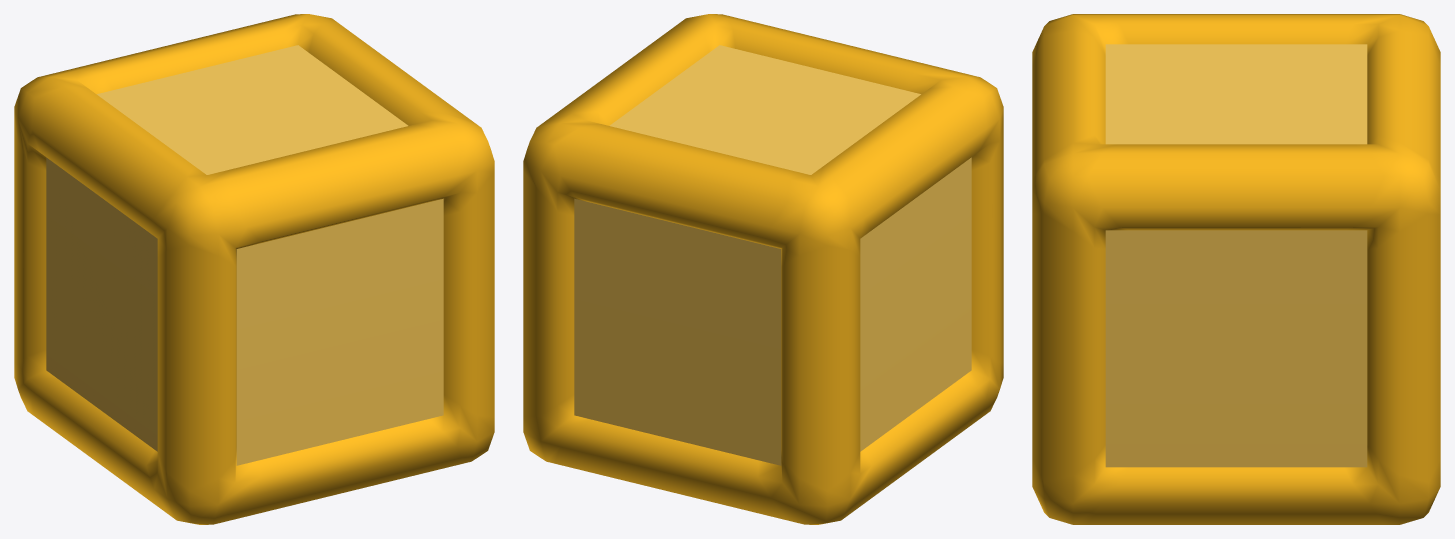
The model's file is Block_Yellow.fbx.
3 renders of one model, left to right at view 1: azimuth 30°, elevation 25°; view 2: azimuth 150°, elevation 25°; view 3: azimuth 270°, elevation 25°, orthographic. The views are drawn at different scales.
Parts seen in each view (by area): view 1: Block_Yellow; view 2: Block_Yellow; view 3: Block_Yellow.
Part boxes in pixels (x1=…): Block_Yellow: x1=14, y1=14, x2=494, y2=524; Block_Yellow: x1=523, y1=14, x2=1003, y2=524; Block_Yellow: x1=1032, y1=14, x2=1440, y2=524.
Bounding box in the file's own units: 100 × 100 × 100.
